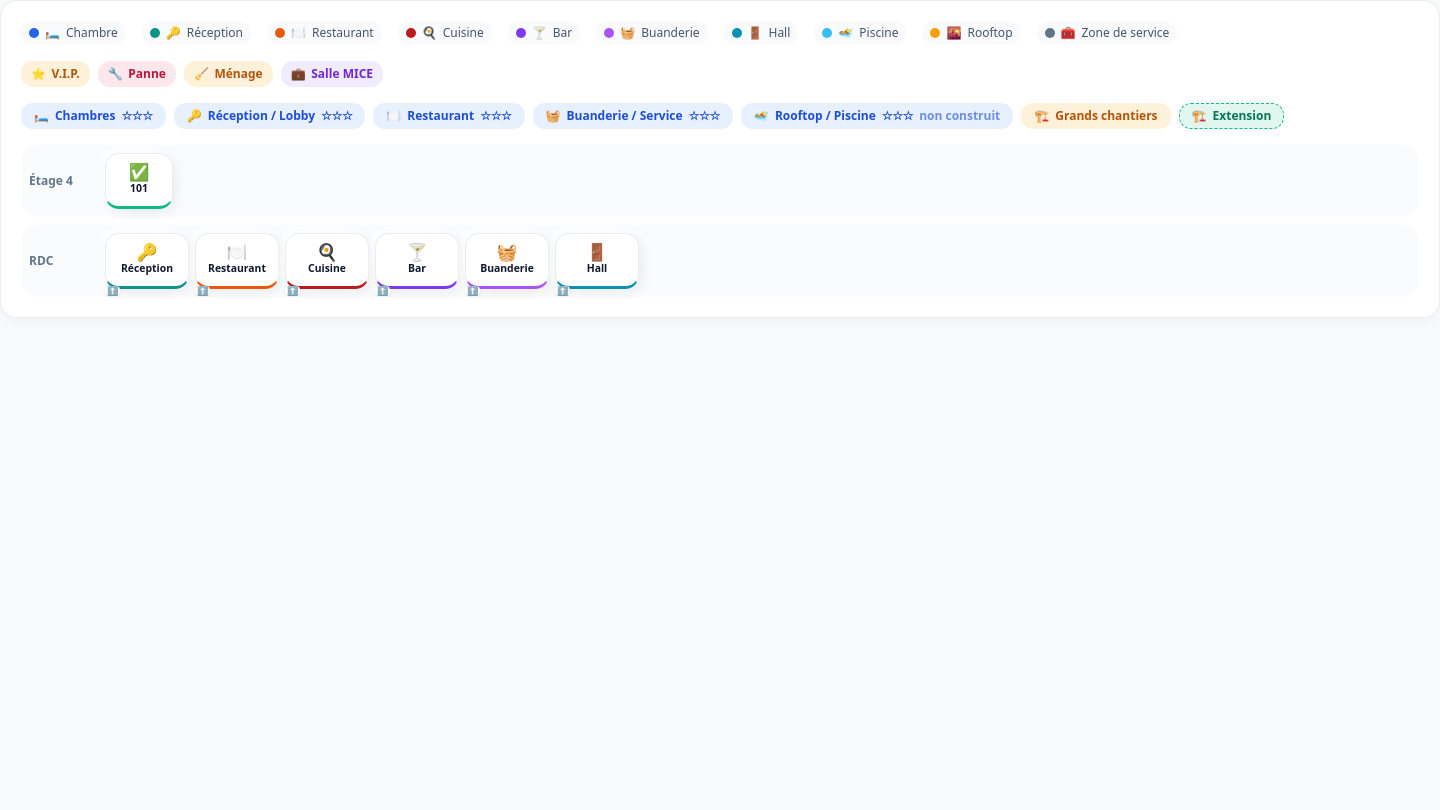
Test: SchematicHotelView / opening the upgrade modal › clicking a cell's level indicator opens its zone's modal, without navigating away
Click the button with test id "schematic-amenity-reception-level".
click(113, 290)  # box [105,286,120,295]
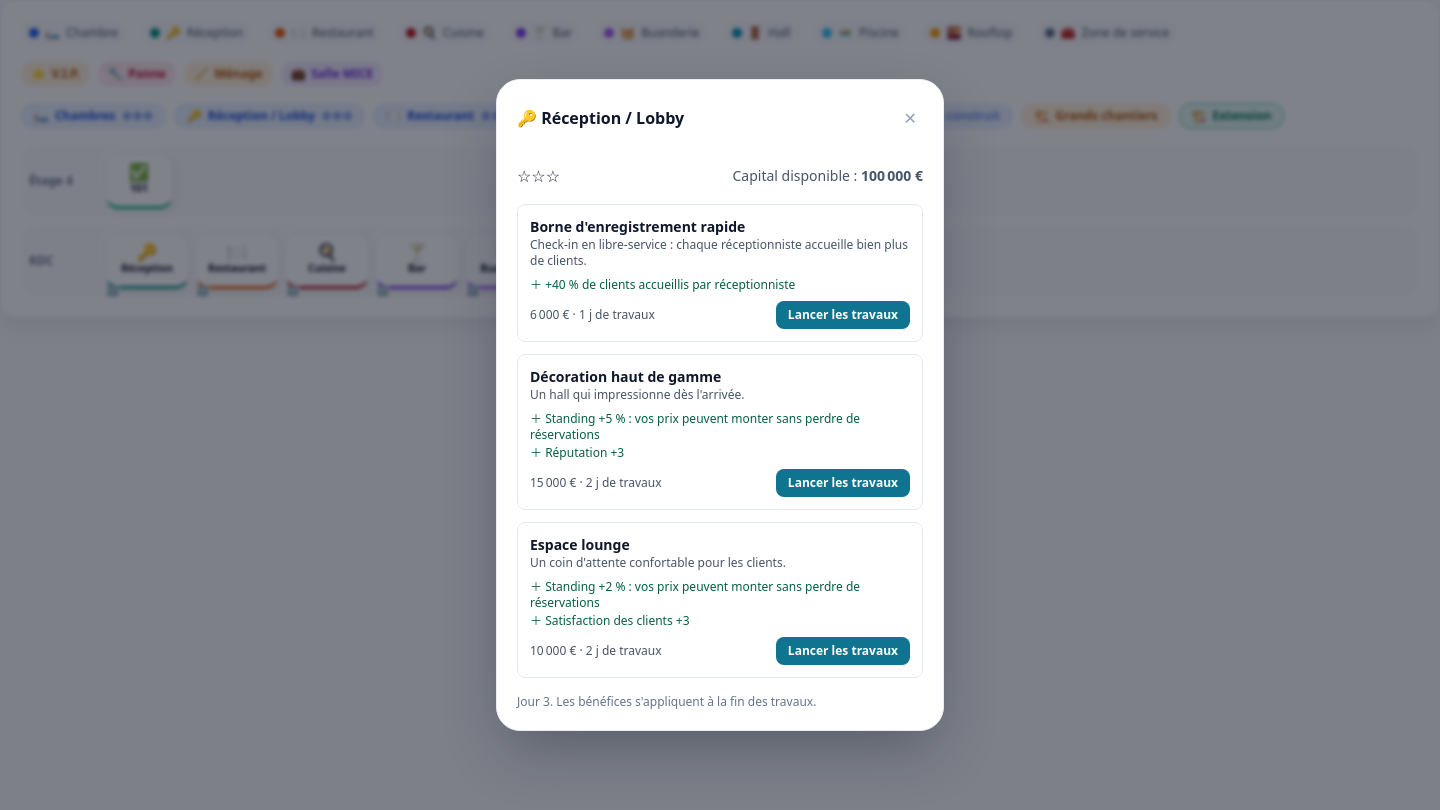
Now the dialog "Réception" is shown
